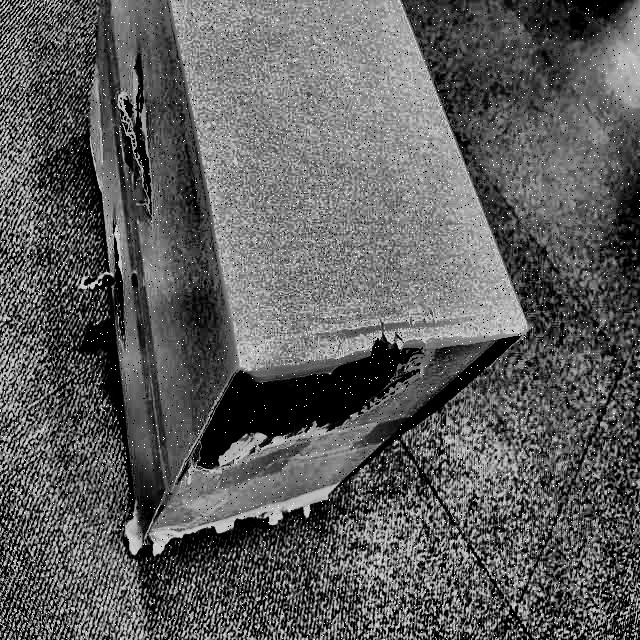box: (82, 0, 538, 562)
hole: (186, 338, 422, 474), (122, 80, 148, 213)
